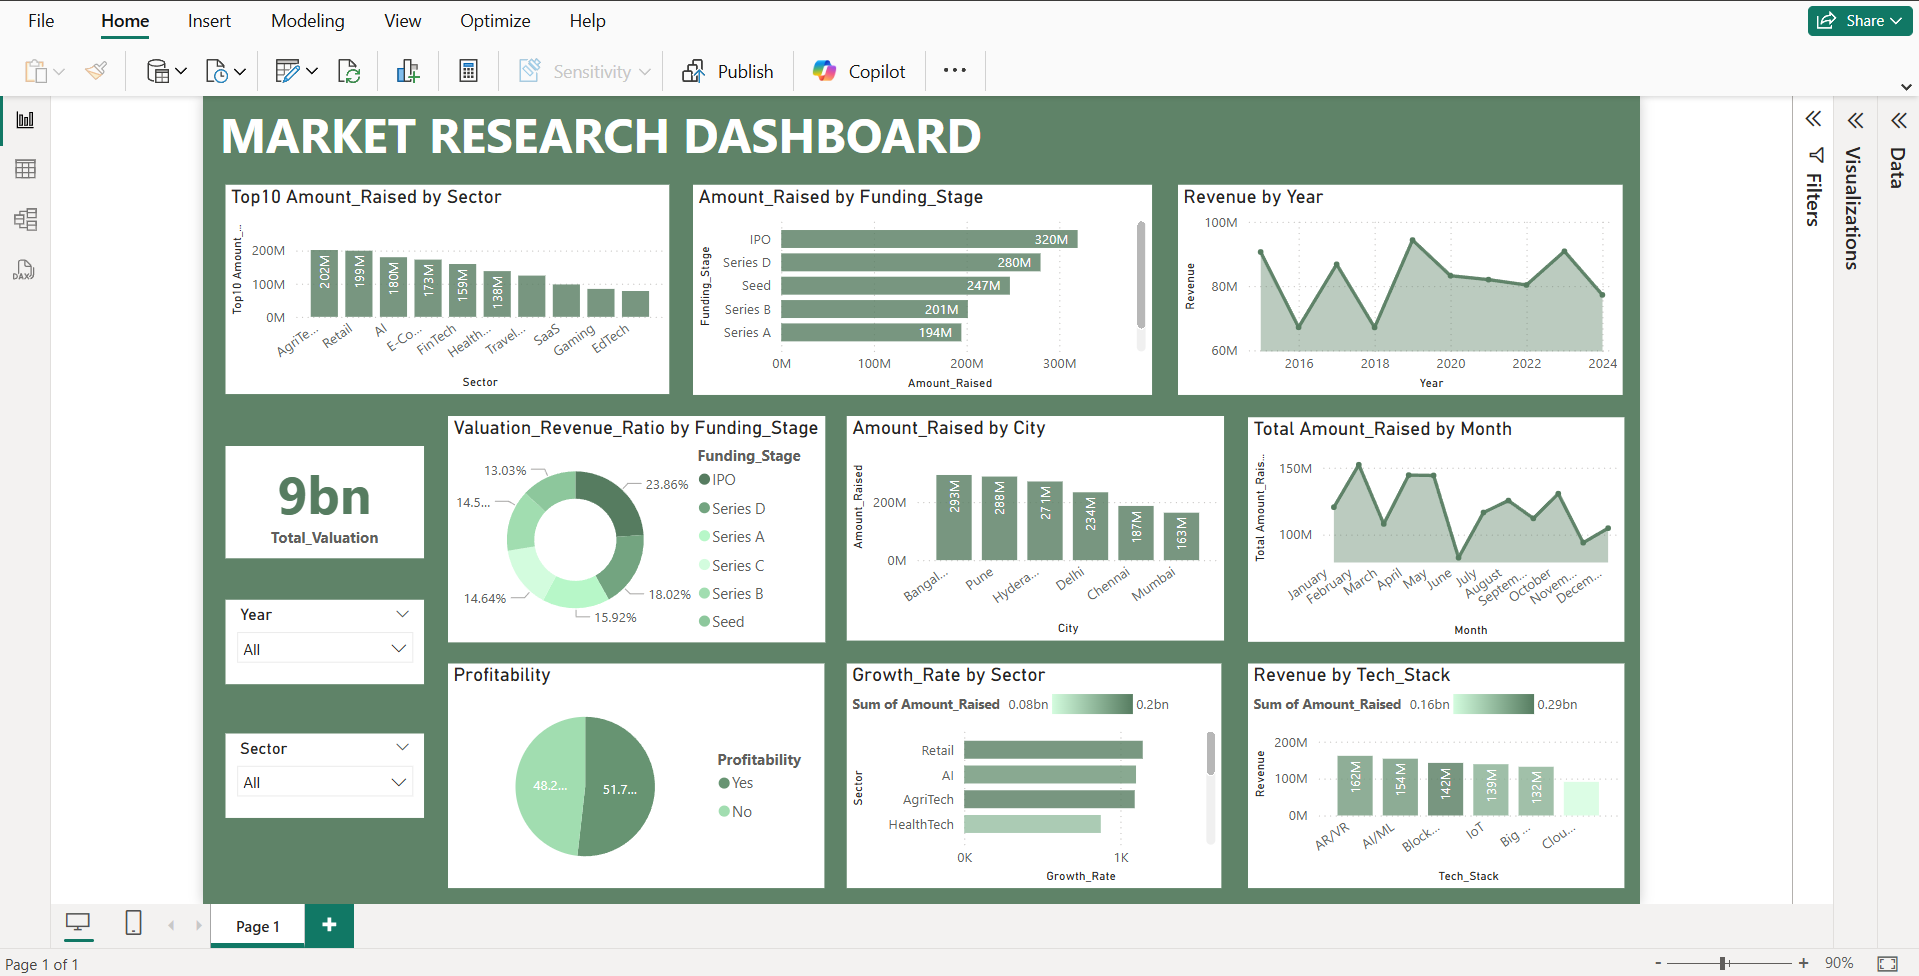

Layout of this report page (visuals, bound fields, positions):
{"tool":"powerbi","page":{"name":"Page 1","canvas":[1280,720],"ordinal":0},"visuals":[{"type":"textbox","box":[9.6,0,699.8,70],"z":0},{"type":"areaChart","fields":{"Category":["startup_data (1).Funding_Date.Variation.Date Hierarchy.Year","startup_data (1).Funding_Date.Variation.Date Hierarchy.Quarter","startup_data (1).Funding_Date.Variation.Date Hierarchy.Month","startup_data (1).Funding_Date.Variation.Date Hierarchy.Day"],"Y":["Sum(startup_data (1).Amount_Raised)"]},"box":[930.4,285.8,334.8,200.3],"z":1000},{"type":"columnChart","fields":{"Category":["startup_data (1).Sector"],"Y":["Sum(startup_data (1).Amount_Raised)"]},"box":[20.6,79.6,395.2,186.6],"z":2000},{"type":"columnChart","fields":{"Category":["startup_data (1).City"],"Y":["Sum(startup_data (1).Amount_Raised)"]},"box":[573.6,285.4,336.2,200.3],"z":3000},{"type":"pieChart","title":"Profitability","fields":{"Y":["Sum(startup_data (1).Revenue)"],"Category":["startup_data (1).Profitability"]},"box":[218.2,505,334.8,200.3],"z":4000},{"type":"clusteredColumnChart","fields":{"Category":["startup_data (1).Tech_Stack"],"Y":["Sum(startup_data (1).Revenue)"]},"box":[930.4,505,334.8,200.3],"z":5000},{"type":"clusteredBarChart","fields":{"Category":["startup_data (1).Funding_Stage"],"Y":["Sum(startup_data (1).Amount_Raised)"]},"box":[436.8,79.6,408.5,187.5],"z":6000},{"type":"areaChart","fields":{"Category":["startup_data (1).Funding_Date.Variation.Date Hierarchy.Year","startup_data (1).Funding_Date.Variation.Date Hierarchy.Quarter","startup_data (1).Funding_Date.Variation.Date Hierarchy.Month","startup_data (1).Funding_Date.Variation.Date Hierarchy.Day"],"Y":["Sum(startup_data (1).Revenue)"]},"box":[868.3,79.6,396.1,187.5],"z":7000},{"type":"donutChart","fields":{"Category":["startup_data (1).Funding_Stage"],"Y":["Sum(startup_data (1).Valuation_Revenue_Ratio)"]},"box":[218.2,285.4,336.2,201.7],"z":8000},{"type":"clusteredBarChart","fields":{"Category":["startup_data (1).Sector"],"Y":["Sum(startup_data (1).Growth_Rate)"]},"box":[573.6,505,333.4,200.3],"z":9000},{"type":"slicer","fields":{"Values":["startup_data (1).Funding_Date.Variation.Date Hierarchy.Year"]},"box":[20.4,448.9,176.8,74.8],"z":10000},{"type":"card","fields":{"Values":["Sum(startup_data (1).Valuation_Post_Funding)"]},"box":[20.4,311.2,176.8,100.3],"z":11000},{"type":"slicer","fields":{"Values":["startup_data (1).Sector"]},"box":[20.4,567.9,176.8,74.8],"z":11001}]}

Visuals, with their boxes on the page's 1280x720 design canvas (x1, y1, x2, y2). These are canvas units, not pixel positions in the 1919x976 screenshot, which may show the page scaled, cropped or inside an application window:
textbox: rect(10, 0, 709, 70)
areaChart - startup_data (1).Funding_Date.Variation.Date Hierarchy.Year x startup_data (1).Funding_Date.Variation.Date Hierarchy.Quarter: rect(930, 286, 1265, 486)
columnChart - startup_data (1).Sector x Sum(startup_data (1).Amount_Raised): rect(21, 80, 416, 266)
columnChart - startup_data (1).City x Sum(startup_data (1).Amount_Raised): rect(574, 285, 910, 486)
"Profitability" pieChart: rect(218, 505, 553, 705)
clusteredColumnChart - startup_data (1).Tech_Stack x Sum(startup_data (1).Revenue): rect(930, 505, 1265, 705)
clusteredBarChart - startup_data (1).Funding_Stage x Sum(startup_data (1).Amount_Raised): rect(437, 80, 845, 267)
areaChart - startup_data (1).Funding_Date.Variation.Date Hierarchy.Year x startup_data (1).Funding_Date.Variation.Date Hierarchy.Quarter: rect(868, 80, 1264, 267)
donutChart - startup_data (1).Funding_Stage x Sum(startup_data (1).Valuation_Revenue_Ratio): rect(218, 285, 554, 487)
clusteredBarChart - startup_data (1).Sector x Sum(startup_data (1).Growth_Rate): rect(574, 505, 907, 705)
slicer - startup_data (1).Funding_Date.Variation.Date Hierarchy.Year: rect(20, 449, 197, 524)
card - Sum(startup_data (1).Valuation_Post_Funding): rect(20, 311, 197, 412)
slicer - startup_data (1).Sector: rect(20, 568, 197, 643)
